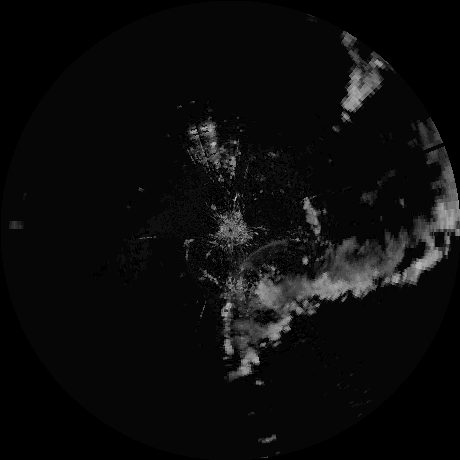frontgust: (242, 236, 307, 271)
